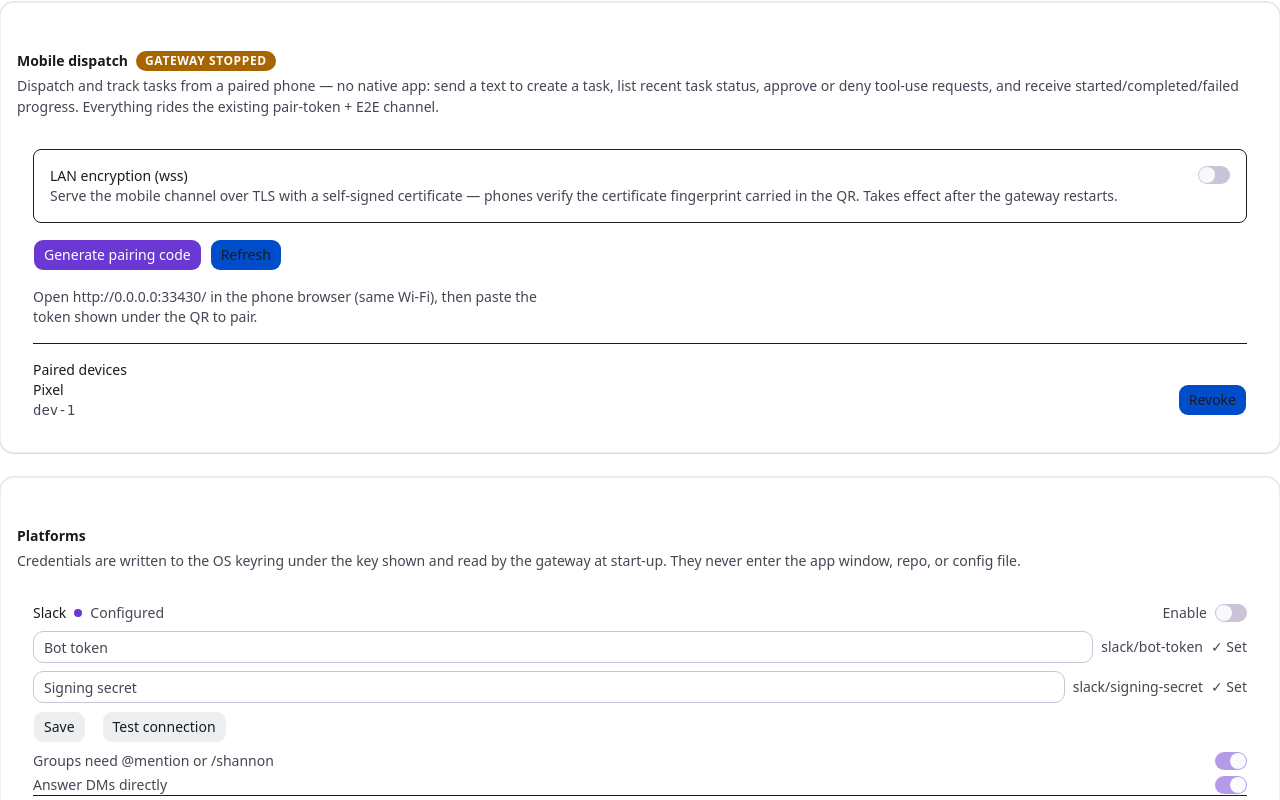
Test case: ConnectionsSettings › lists a paired device and revokes it through a confirm dialog
(page scrolled)
Expected: the text "Pixel" is shown, [33,380,64,399]
Click the row's Revoke button → opens the confirm dialog.
Step 1. Click the button "Revoke" → (1212, 400), box [1178,384,1247,416]
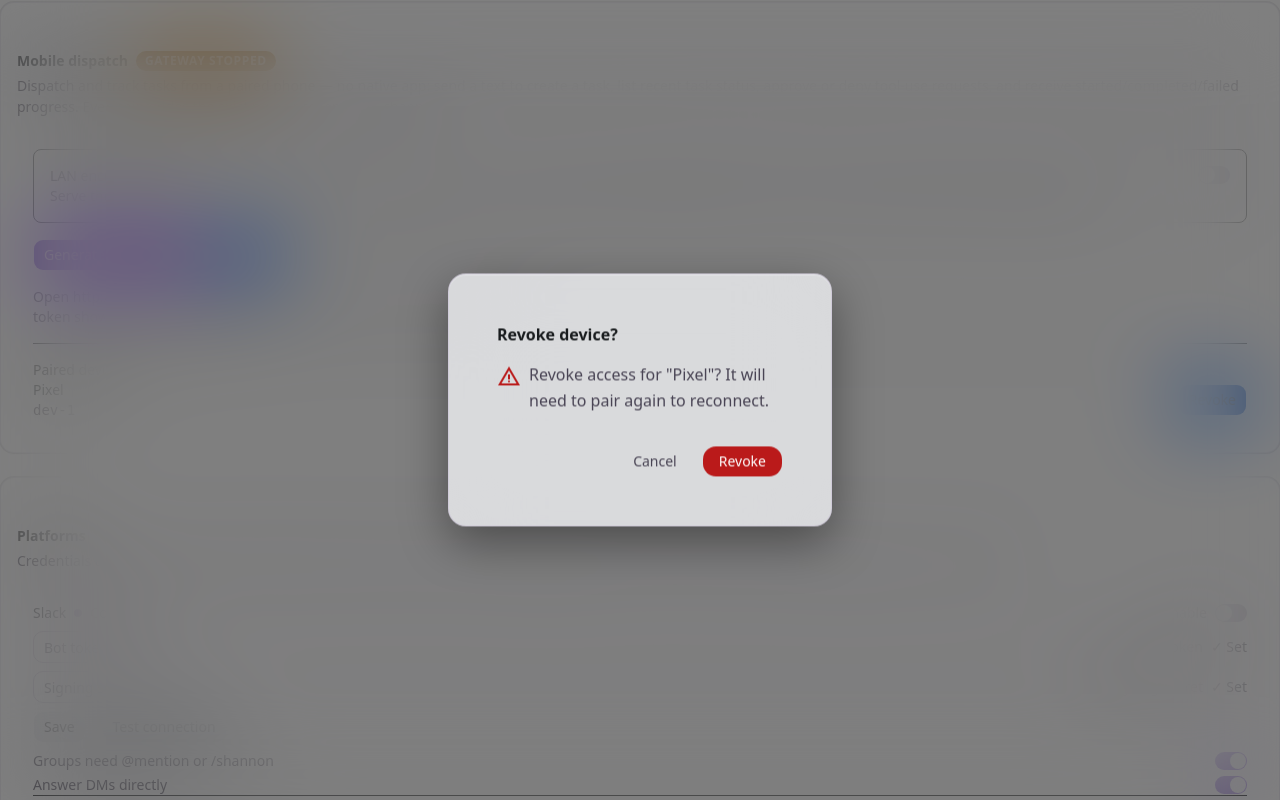
Confirm via the dialog's destructive button (also labelled "Revoke").
Step 2. Click the button "Revoke" → (742, 462), box [702,446,783,478]
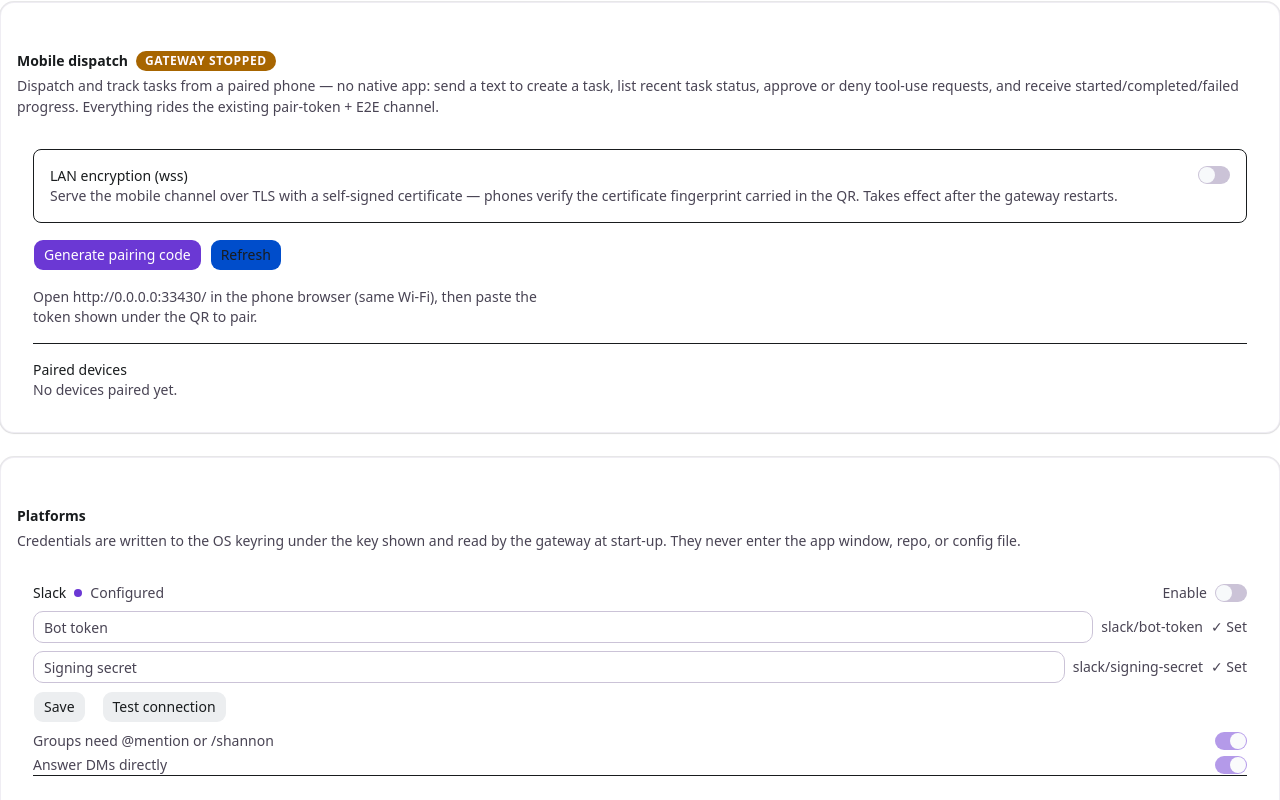
Result: the list item with test id "mobile-device-dev-1" is gone
